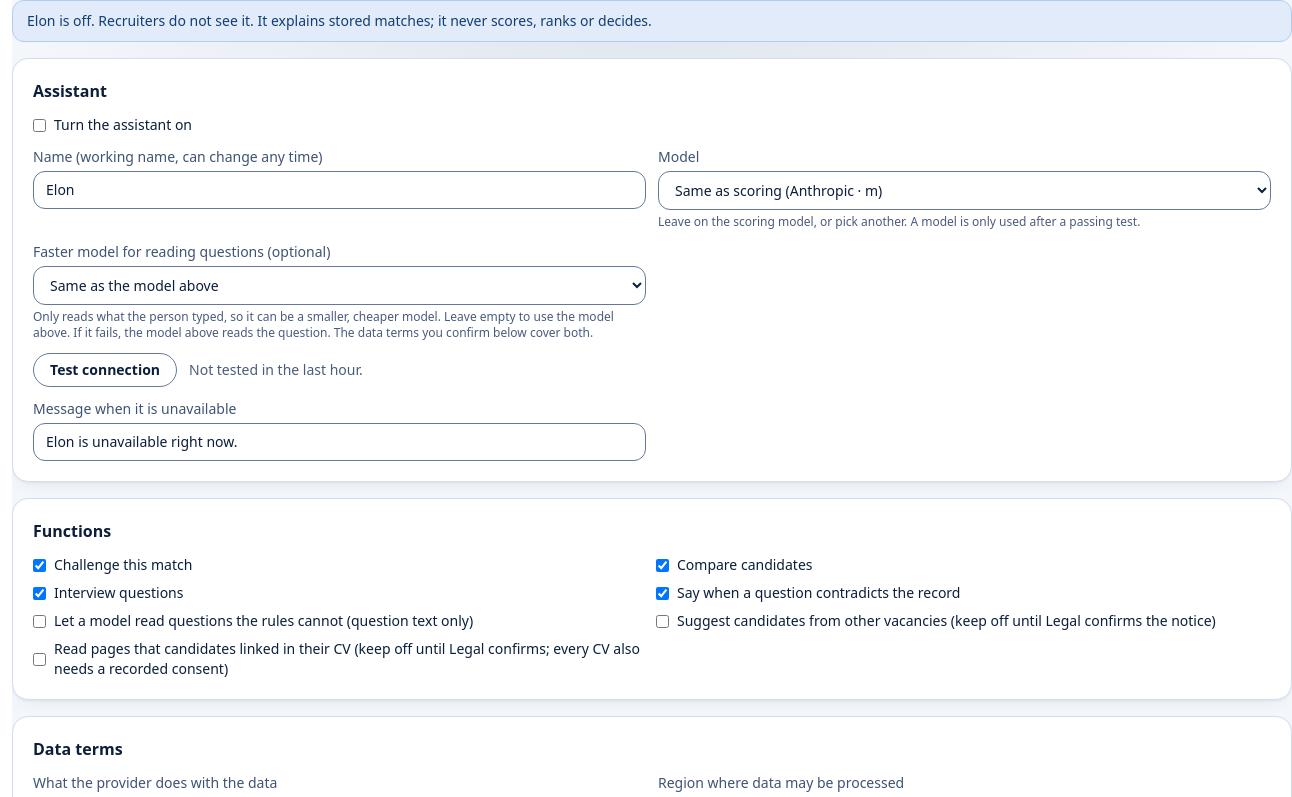
Scenario: Assistant settings (admin) › shows the server's reason when turning it on is refused
Click the checkbox labelled "Turn the assistant on".
click(40, 125)  # box top-left (33, 118), bottom-right (46, 132)
(page scrolled)
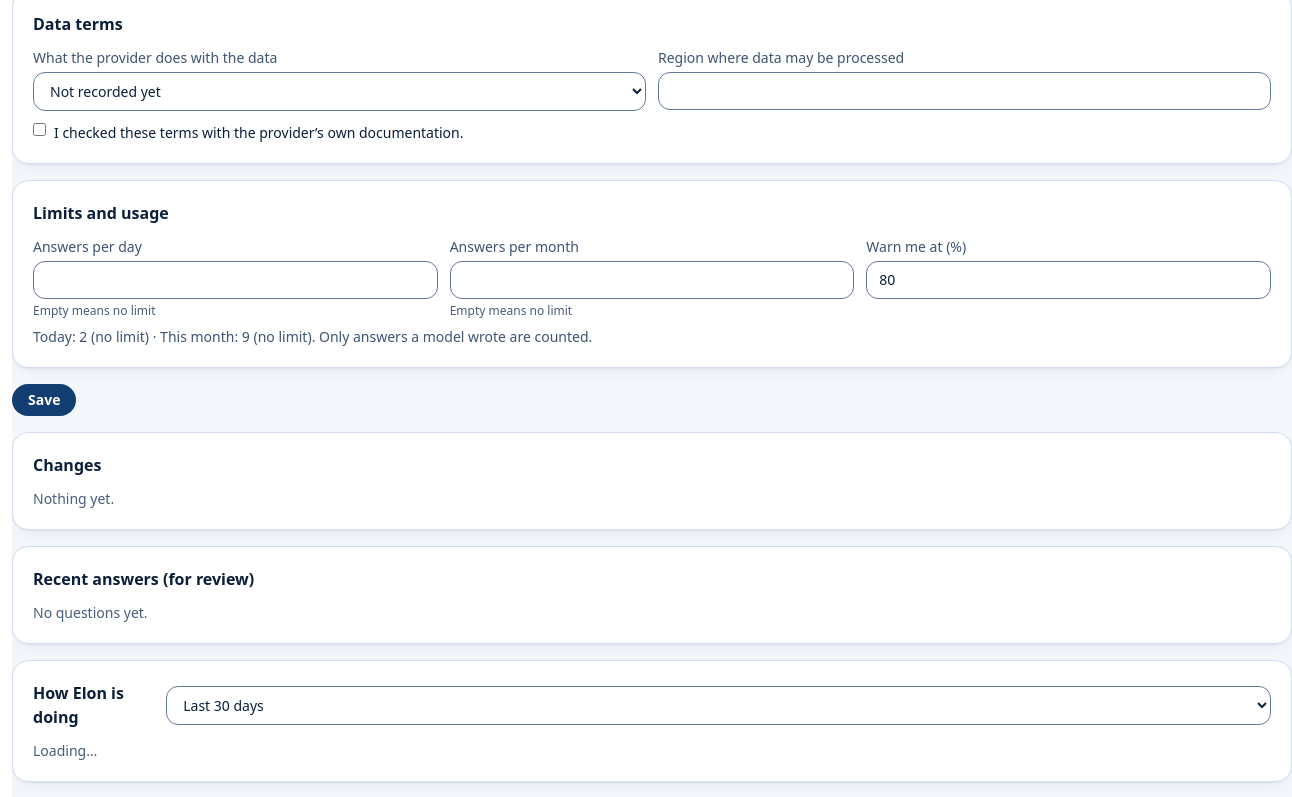
Click the button "Save".
click(44, 400)  # box top-left (12, 384), bottom-right (76, 416)
(page scrolled)
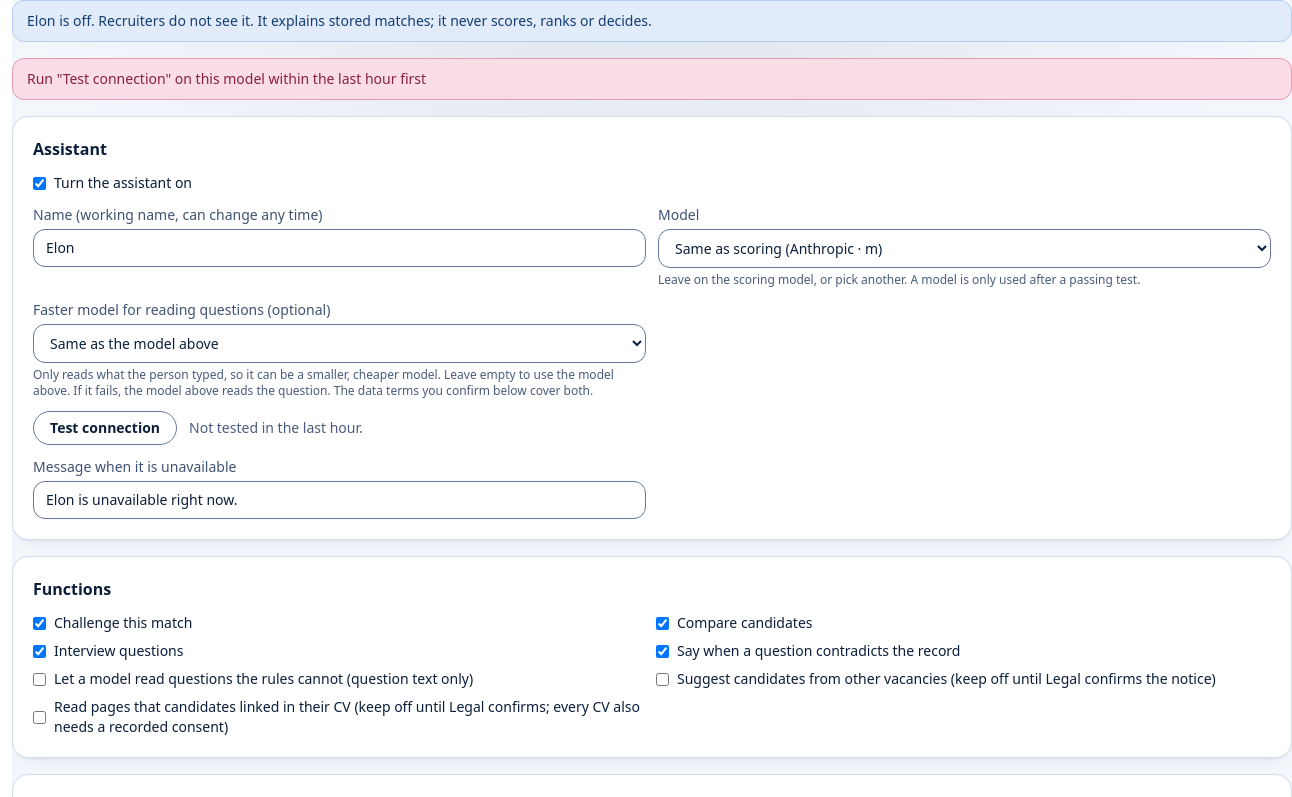
Now the text "Run \"Test connection\" on this model within the last hour first" is shown, box top-left (12, 58), bottom-right (1291, 100)
